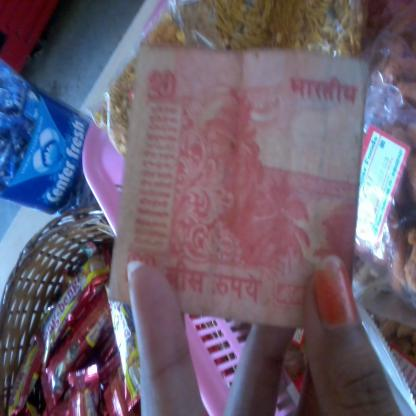Old20Back: (110, 48, 366, 328)
